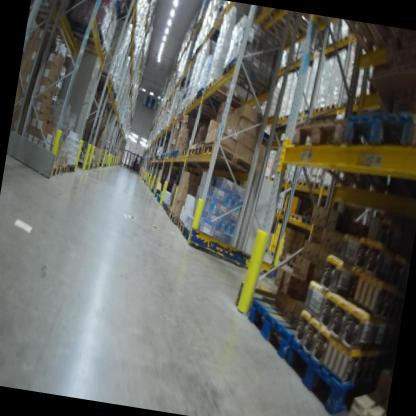pallet: (282, 109, 394, 201), (279, 338, 388, 416), (335, 102, 416, 202), (241, 295, 322, 365), (330, 19, 408, 65), (251, 7, 310, 53), (218, 57, 276, 98), (200, 138, 260, 177), (342, 377, 390, 416), (399, 101, 416, 205), (201, 74, 246, 111), (64, 30, 111, 59), (64, 16, 106, 45), (192, 84, 225, 114), (317, 183, 340, 204), (73, 150, 90, 171), (282, 255, 297, 272), (324, 99, 338, 116), (48, 162, 62, 179), (174, 218, 186, 237), (192, 142, 205, 159), (181, 226, 194, 241), (64, 159, 76, 175), (167, 211, 180, 225), (306, 177, 320, 189), (312, 104, 325, 115), (300, 216, 313, 227), (274, 248, 284, 262), (60, 161, 69, 176), (296, 177, 307, 187), (291, 213, 302, 223), (187, 146, 196, 158), (180, 147, 188, 159), (276, 177, 286, 185), (164, 205, 171, 215), (177, 147, 183, 158), (162, 202, 167, 212), (268, 176, 275, 183)
